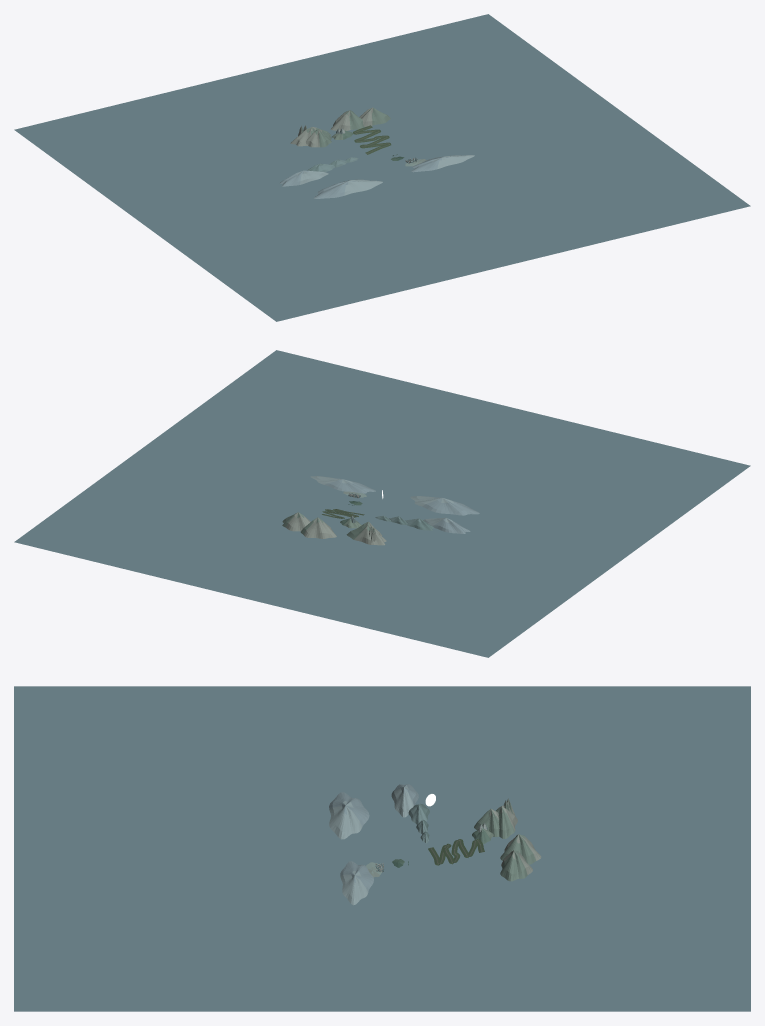
The model's file is cypress.glb.
The picture shows the model from 3 angles, top to bottom: view 1: azimuth 30°, elevation 25°; view 2: azimuth 150°, elevation 25°; view 3: azimuth 270°, elevation 25°; orthographic projection. The views are drawn at different scales.
Parts seen in each view (by area): view 1: Land_000, Peaks; view 2: Land_000, Peaks; view 3: Land_000, Peaks.
Boxes of the visible parts, x1,y1,x2,y2 form: Land_000: (14, 14, 750, 321); Peaks: (279, 107, 474, 198); Land_000: (14, 350, 750, 657); Peaks: (282, 476, 479, 545); Land_000: (14, 686, 750, 1011); Peaks: (329, 784, 541, 905).
Bounding box in the file's own units: 48000 × 2980 × 46000.
